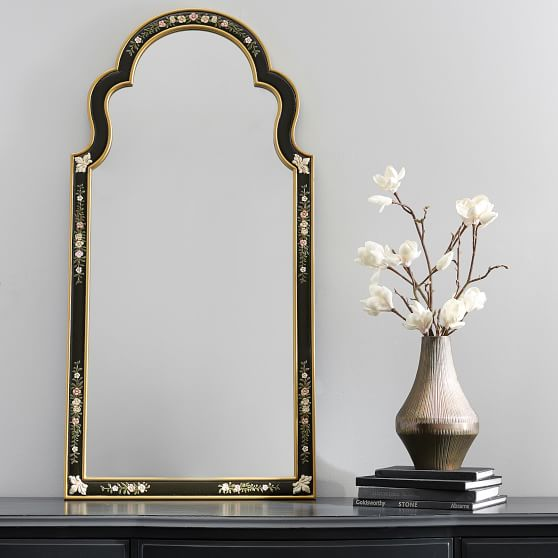Nonrec_Glass: (49, 5, 332, 510)
